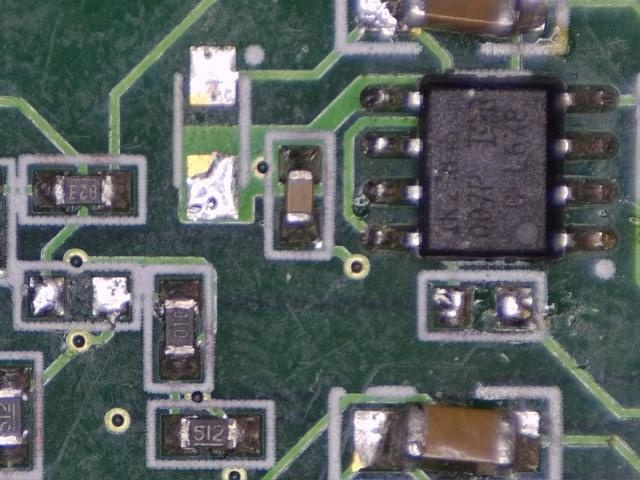pcb_defect: (352, 402, 542, 473), (357, 0, 550, 38)
